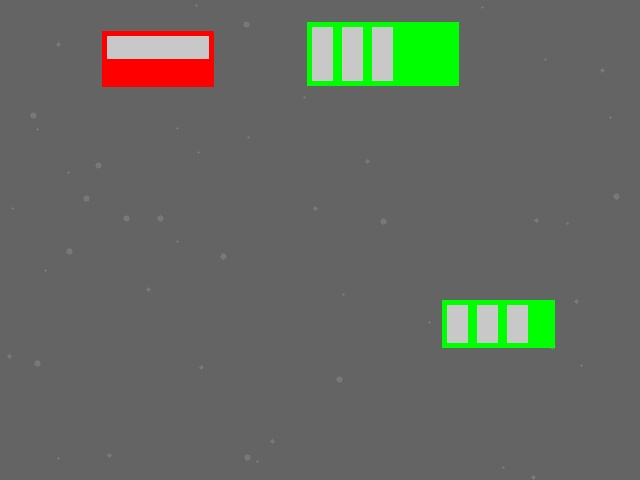bus: (307, 22, 458, 85), (442, 300, 554, 347)
car: (102, 31, 213, 86)
